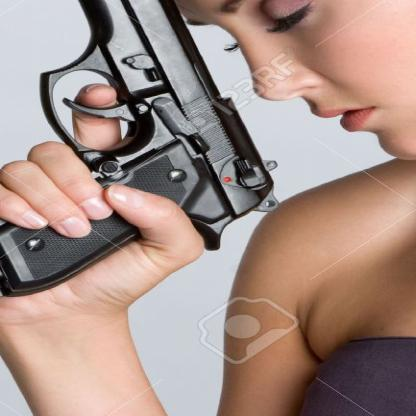gun: (0, 0, 292, 307)
